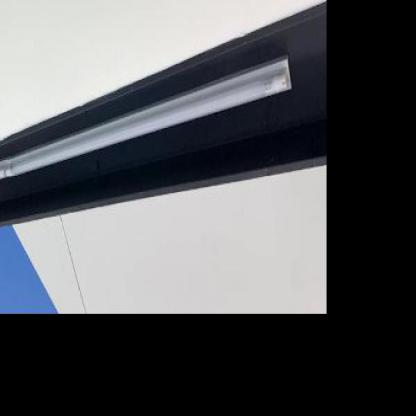light_off: (0, 5, 302, 219)
